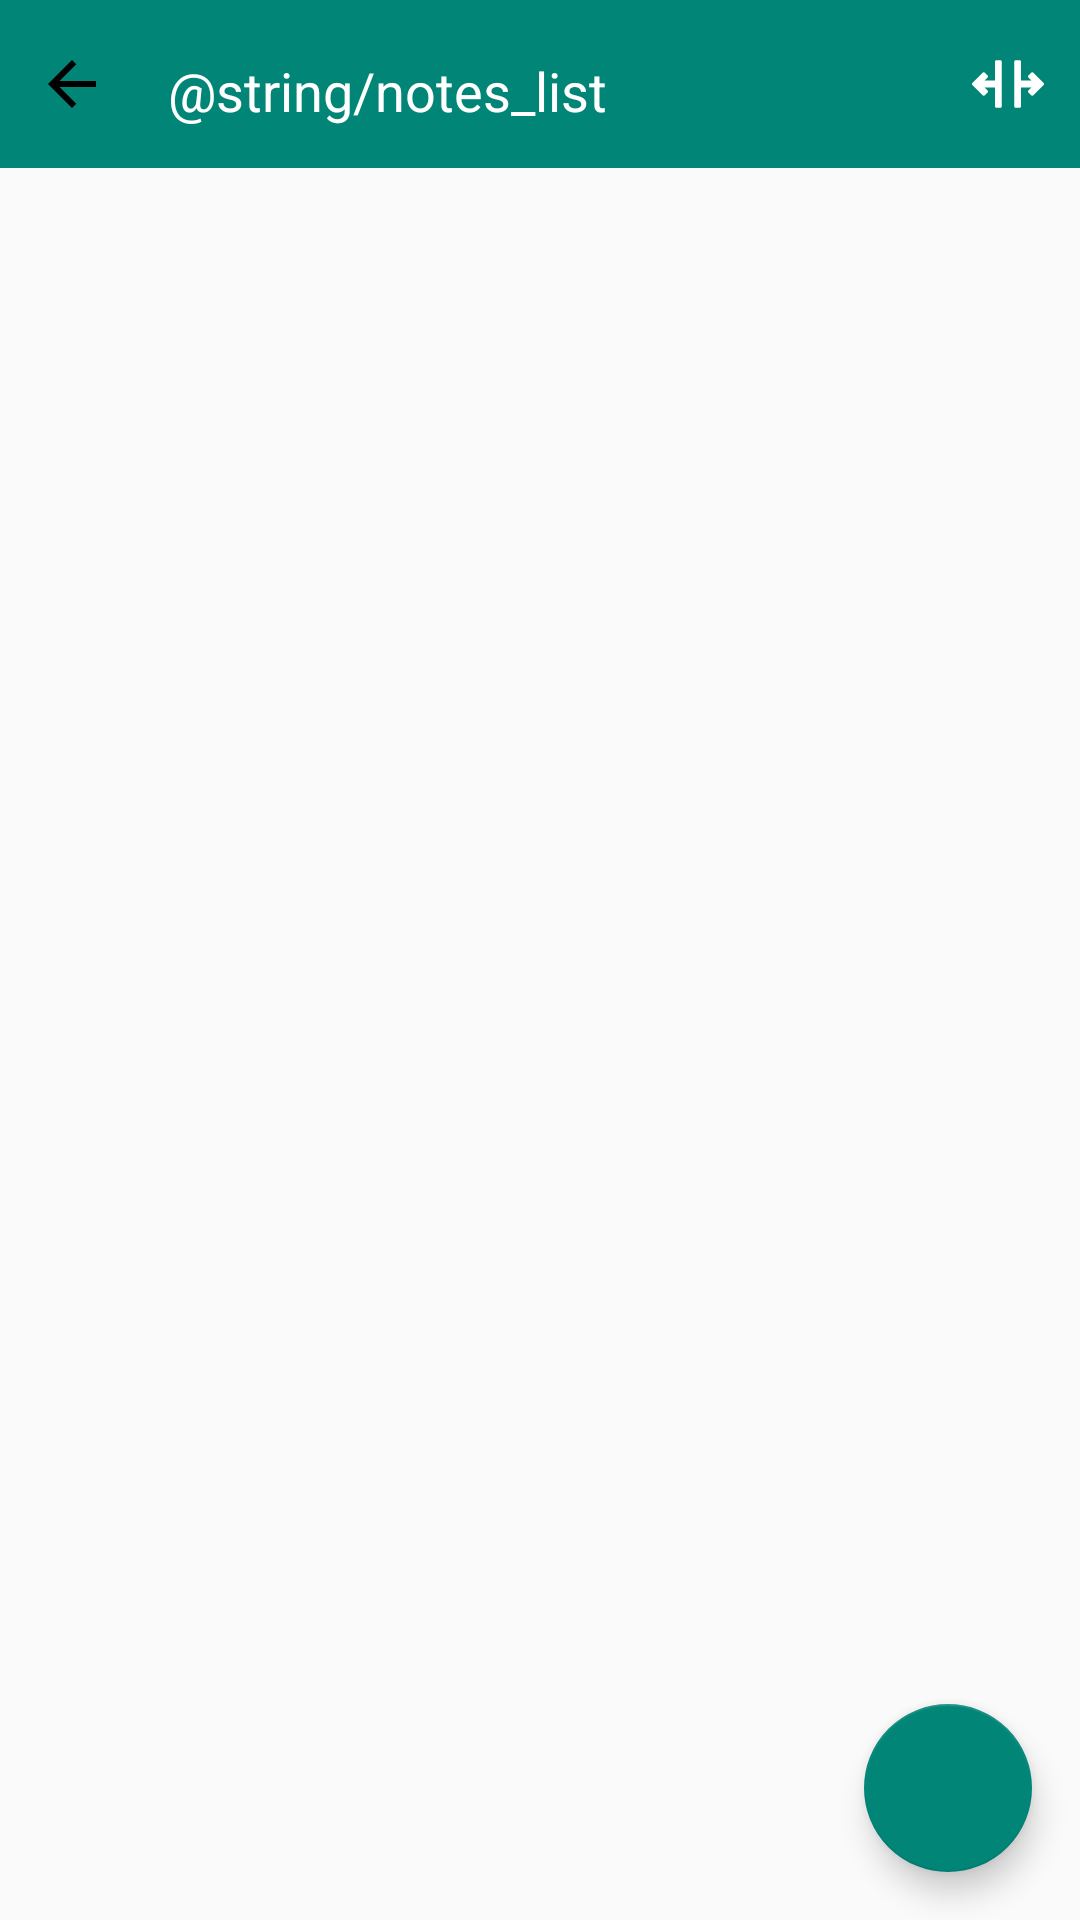

Icon bounding boxes for this 1080 x 1920 phone screenshot, format (x1, y1, x2, y2):
arrow back: (48, 60, 96, 108)
resize: (972, 60, 1044, 108)
